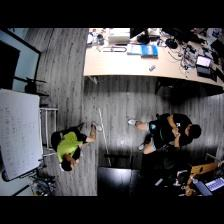normal: (129, 114, 201, 156), (57, 122, 97, 173)
